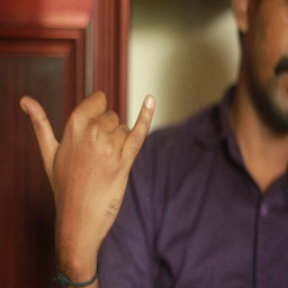J: (18, 70, 159, 224)
